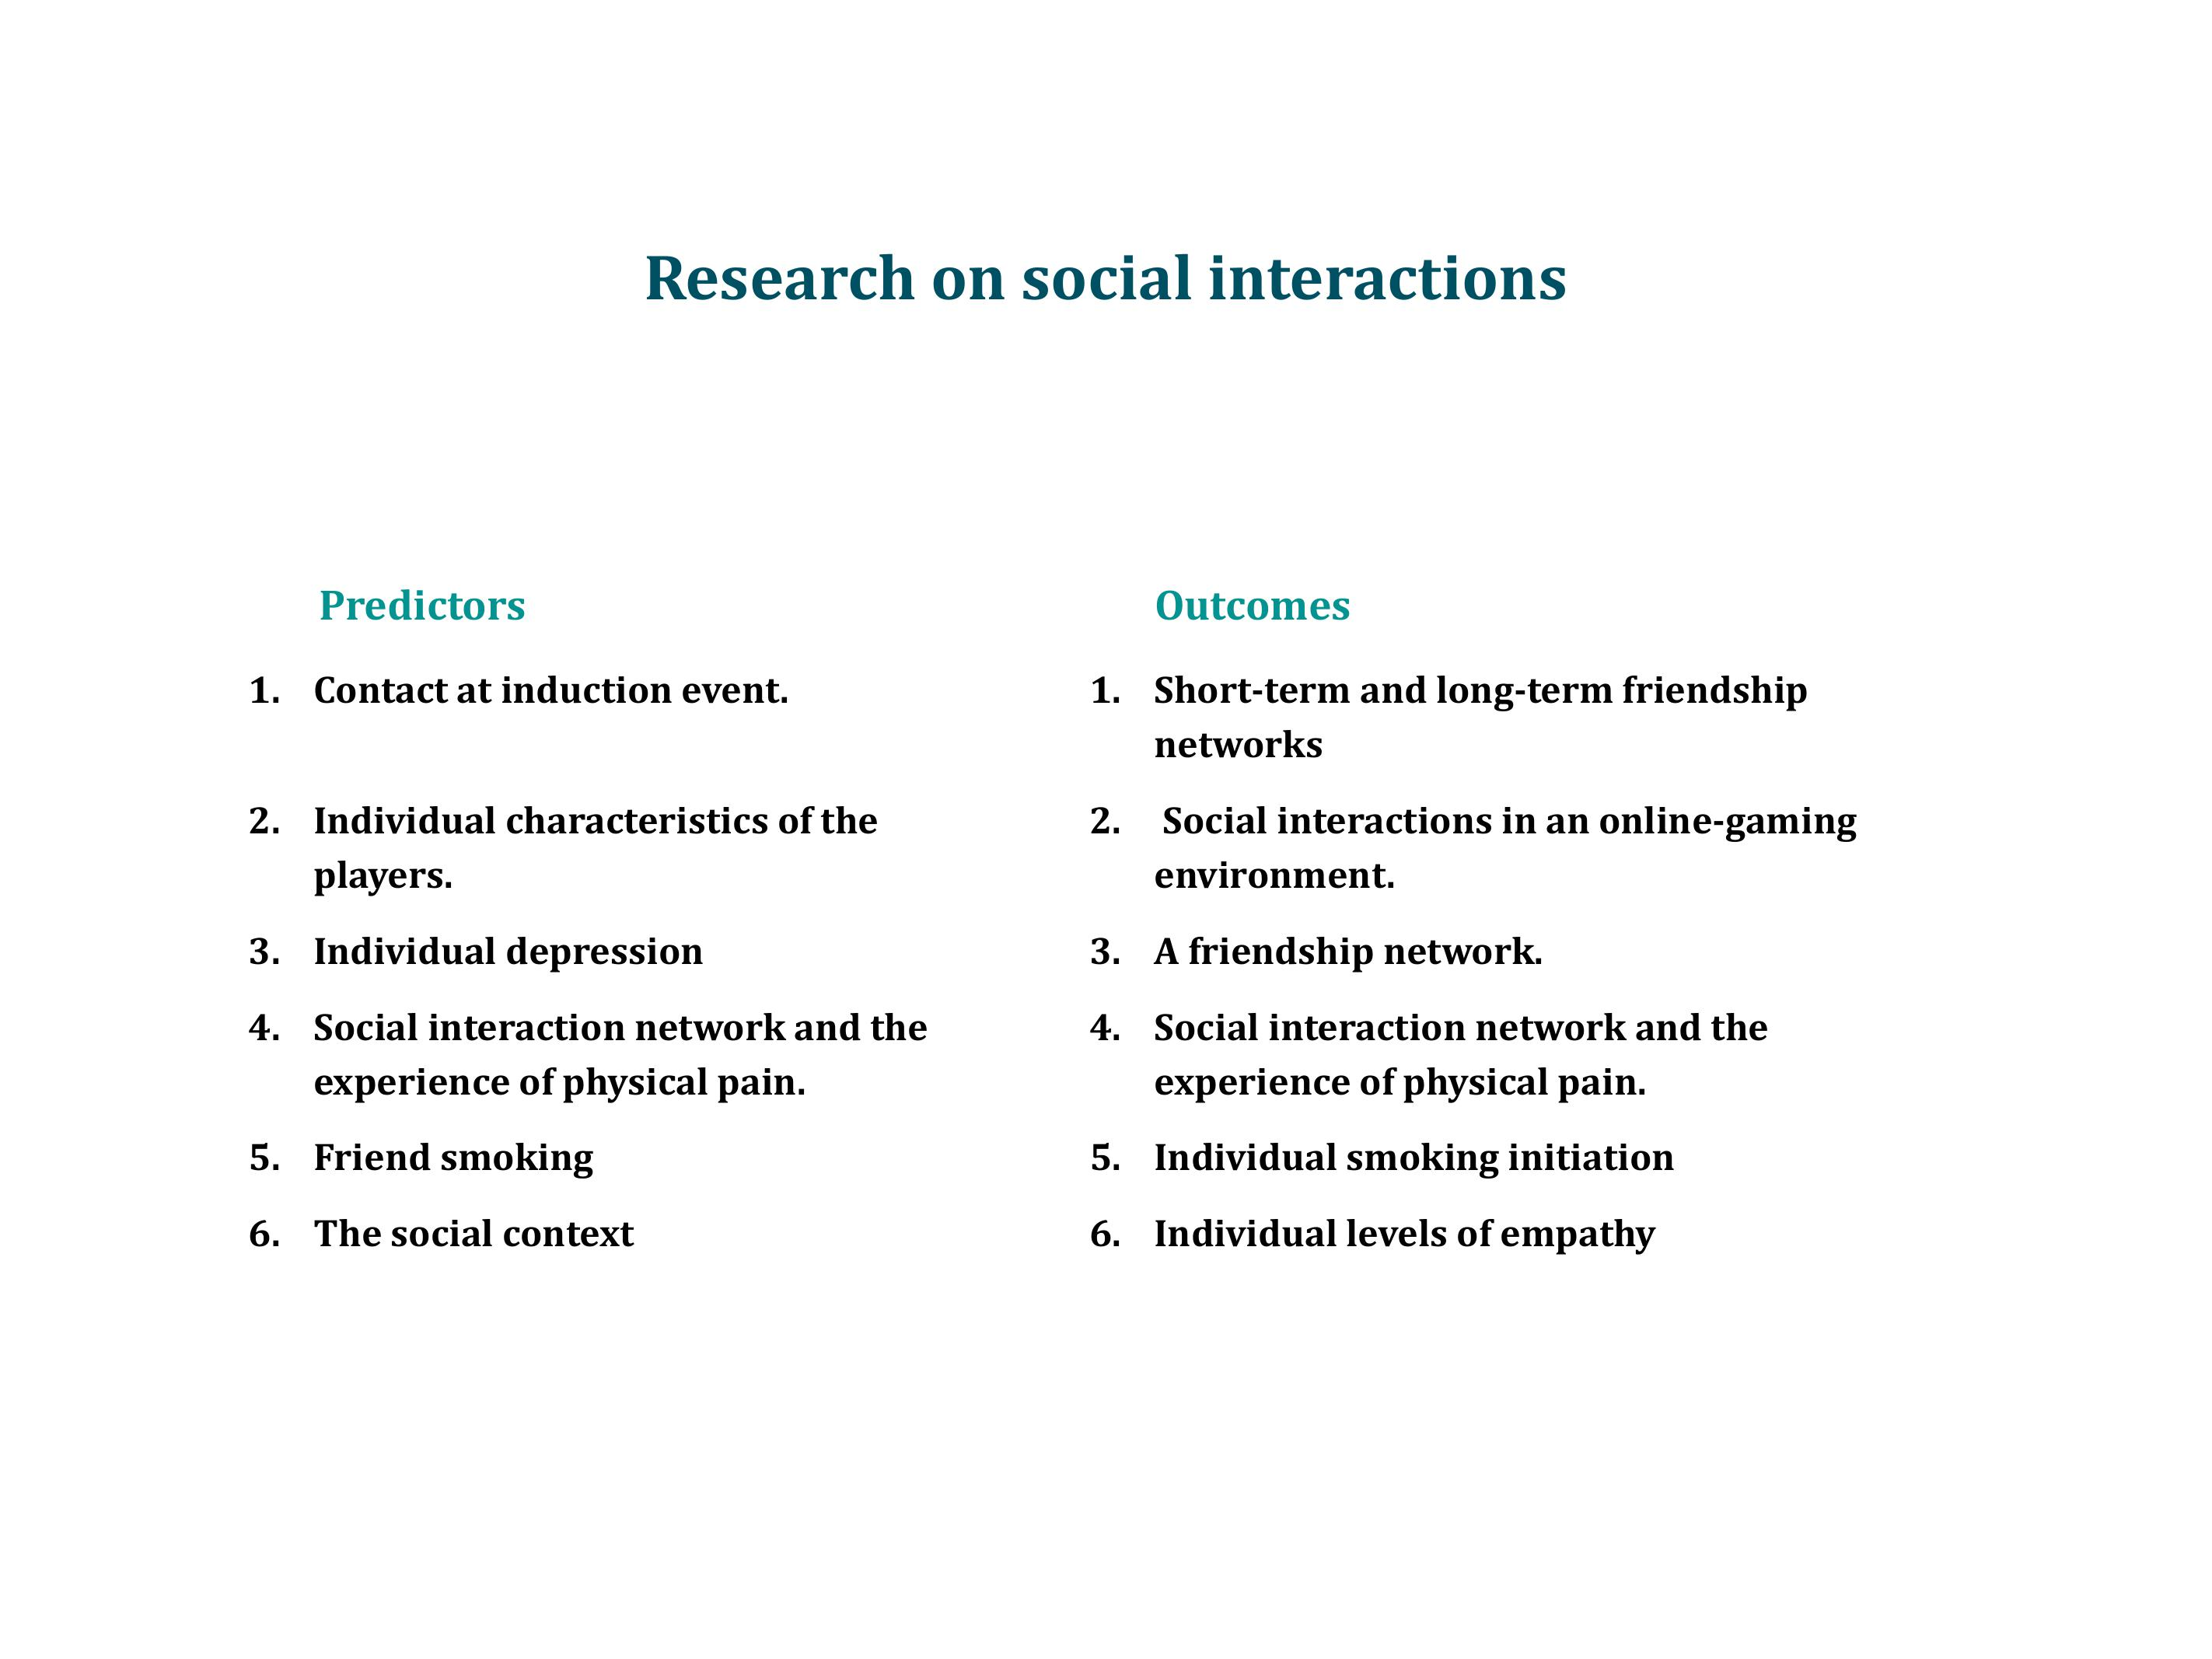Title: (617, 246, 1597, 322)
